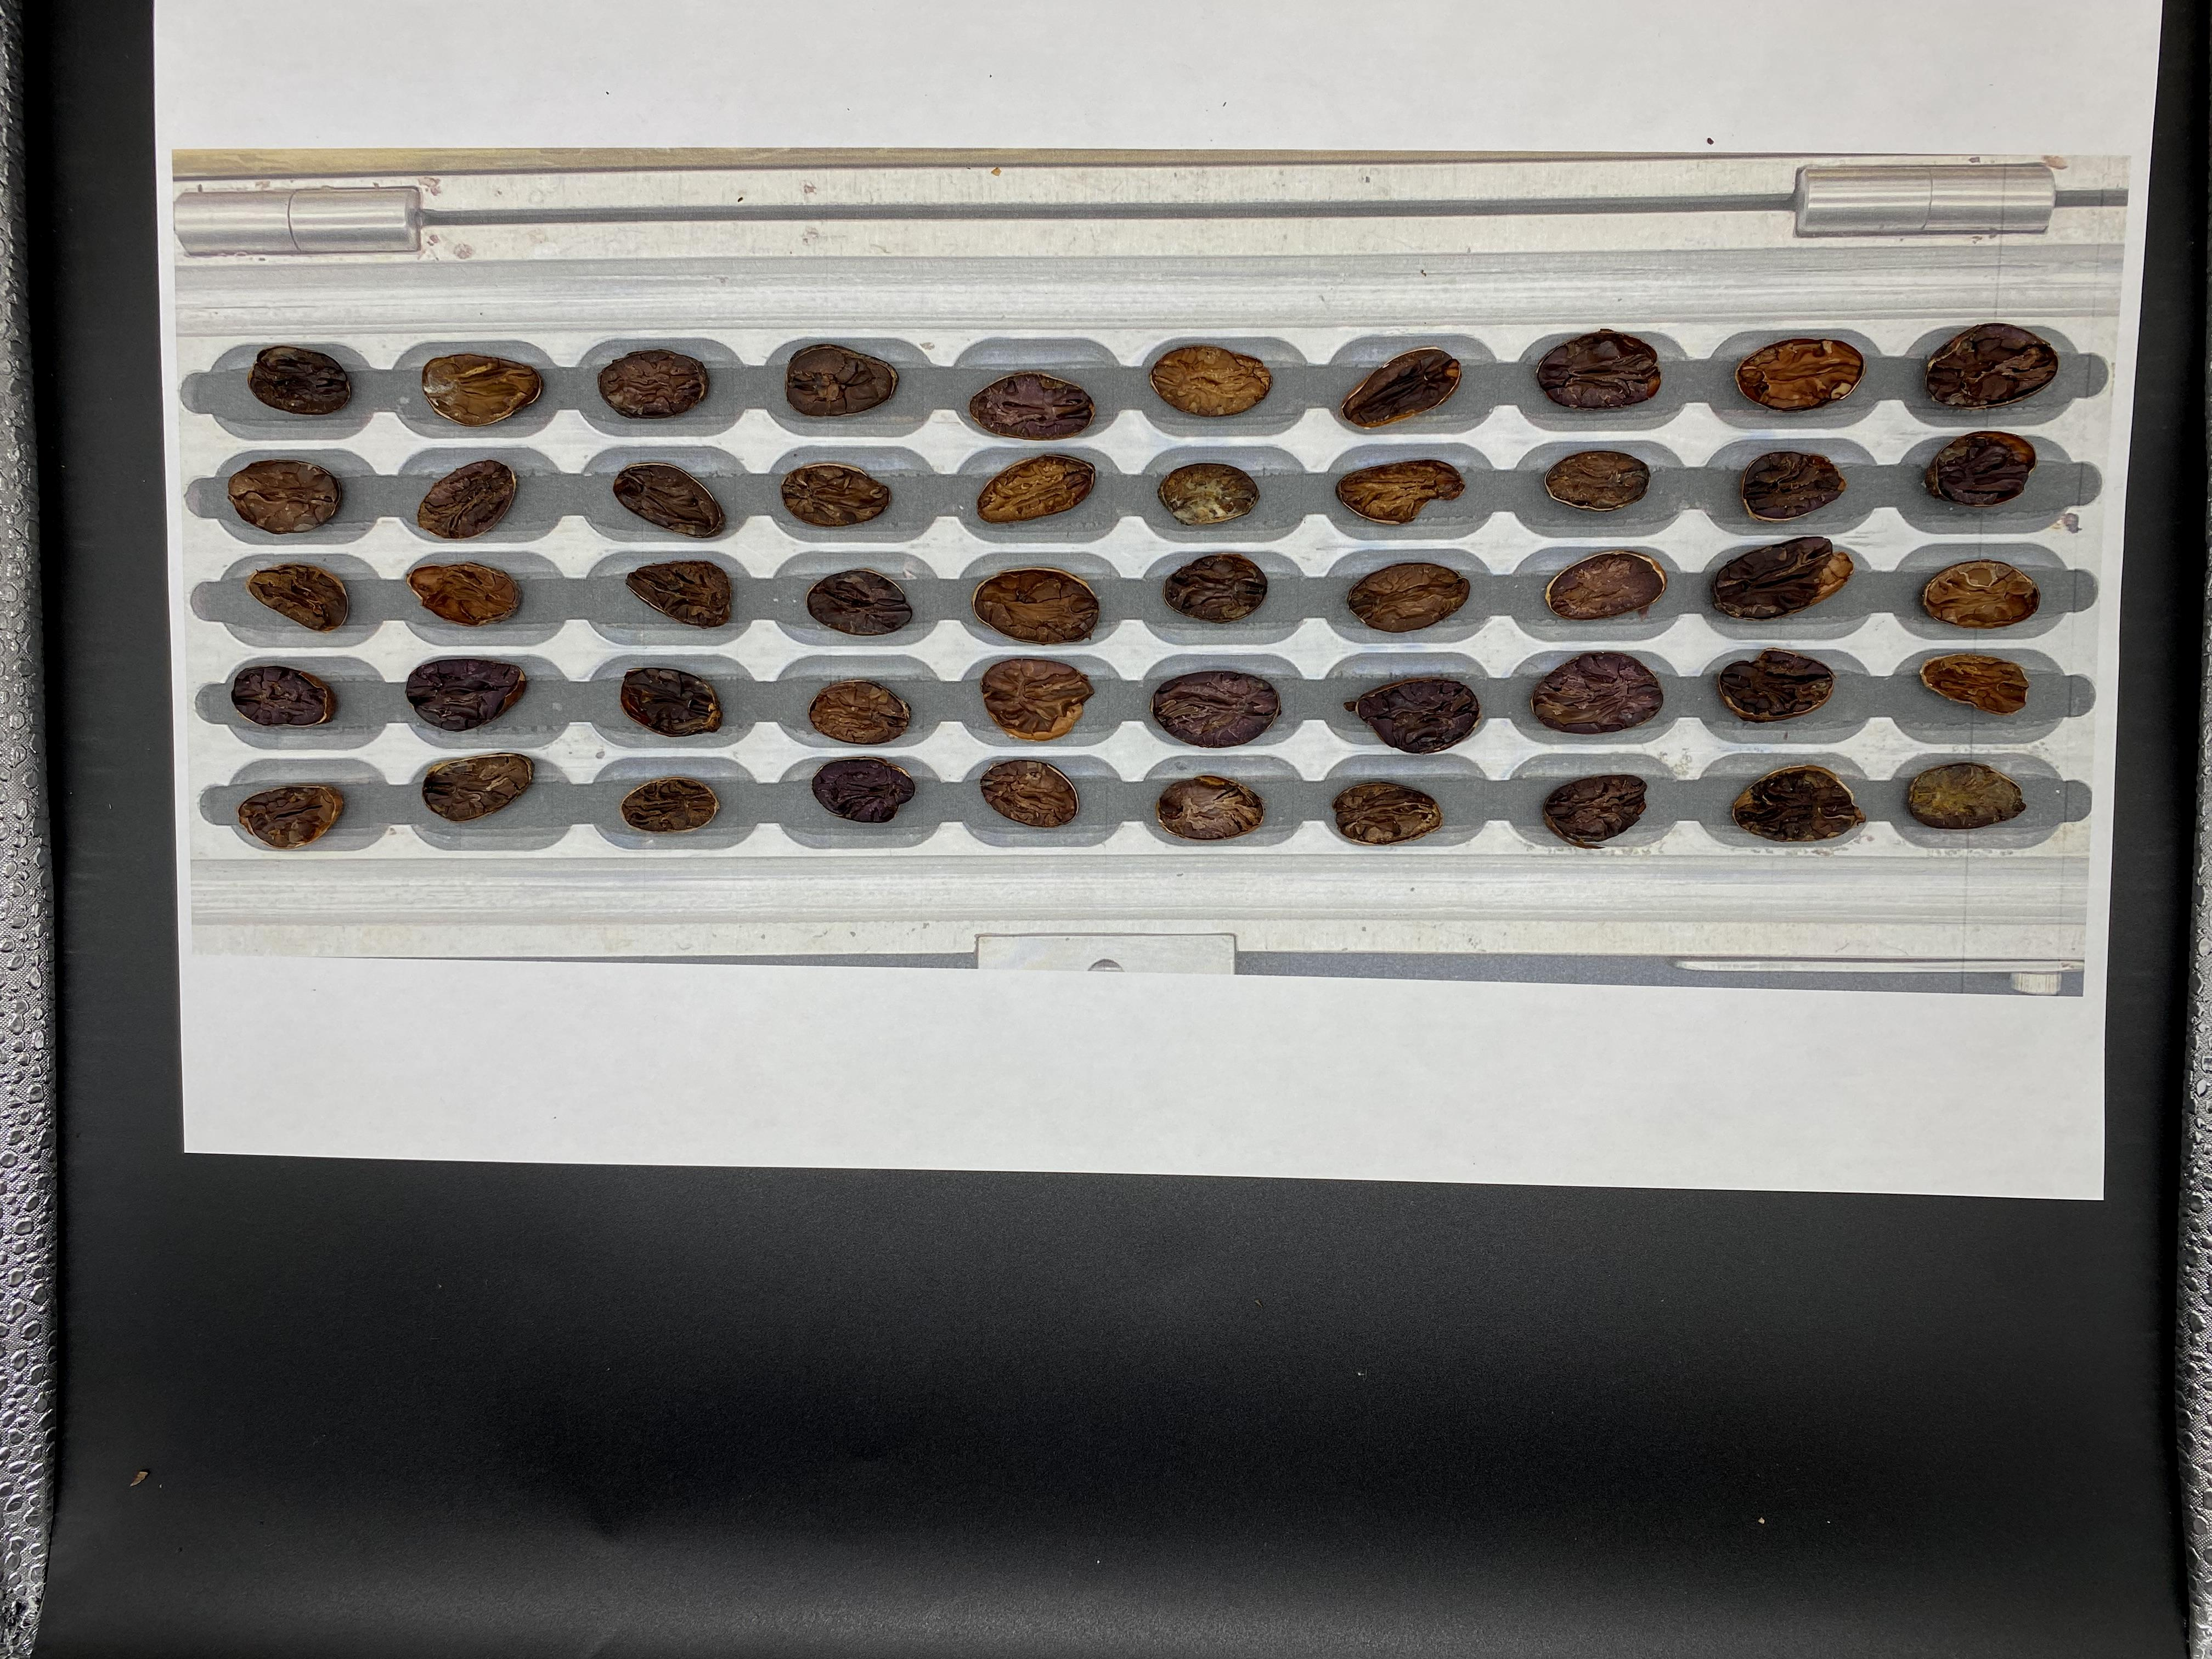Brown - G1: (1968, 988, 2041, 1030), (1583, 1150, 1651, 1194), (1482, 1049, 1543, 1089), (1763, 1213, 1827, 1249), (2062, 1148, 2127, 1183)
Brown - G2: (2060, 1098, 2132, 1140), (1581, 1046, 1653, 1087), (1766, 1049, 1838, 1087), (1402, 1100, 1468, 1140), (1583, 1199, 1642, 1241), (1294, 1101, 1359, 1136), (1209, 1213, 1268, 1249)
Brown - G3: (1580, 1101, 1655, 1147), (1771, 1100, 1843, 1141), (1669, 990, 1738, 1032), (1202, 1049, 1268, 1093), (1299, 1049, 1357, 1098), (1299, 1195, 1366, 1237), (1390, 993, 1453, 1035), (1672, 1209, 1738, 1248), (1211, 1101, 1271, 1141), (1496, 1159, 1554, 1197)
Brown - G4: (1871, 1040, 1933, 1082)
Insect-damaged: (2055, 1201, 2121, 1244)
Mouldy: (1298, 993, 1371, 1035), (1676, 1051, 1733, 1086)
Partly Purple - G1: (1958, 1143, 2026, 1185)
Partly Purple - G2: (1867, 981, 1942, 1028), (1865, 1147, 1939, 1194), (1970, 1042, 2031, 1084)
Partly Purple - G3: (1578, 1004, 1648, 1046)
Partly Purple - G4: (1872, 1094, 1940, 1136)
Total Purple - G2: (1291, 1148, 1364, 1190)
Total Purple - G3: (1670, 1154, 1743, 1199), (1775, 1157, 1844, 1204), (1204, 1152, 1263, 1192), (1498, 1199, 1559, 1237)
Very Dark Brown - G1: (1954, 1087, 2038, 1138), (1966, 1204, 2040, 1249), (2060, 1032, 2128, 1079), (1404, 1209, 1460, 1243)
Very Dark Brown - G2: (1764, 990, 1839, 1044), (2064, 979, 2141, 1032), (1869, 1206, 1932, 1249), (1676, 1096, 1740, 1136), (1211, 992, 1271, 1032), (1402, 1154, 1460, 1194)
Very Dark Brown - G3: (1397, 1047, 1461, 1093), (1484, 990, 1548, 1033), (1494, 1103, 1561, 1141)
